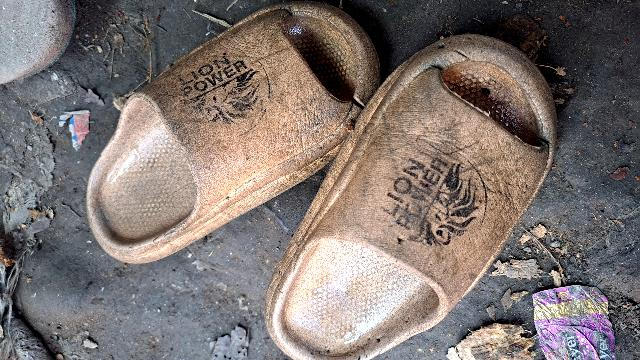sandal: (259, 13, 609, 360), (41, 0, 397, 273)
